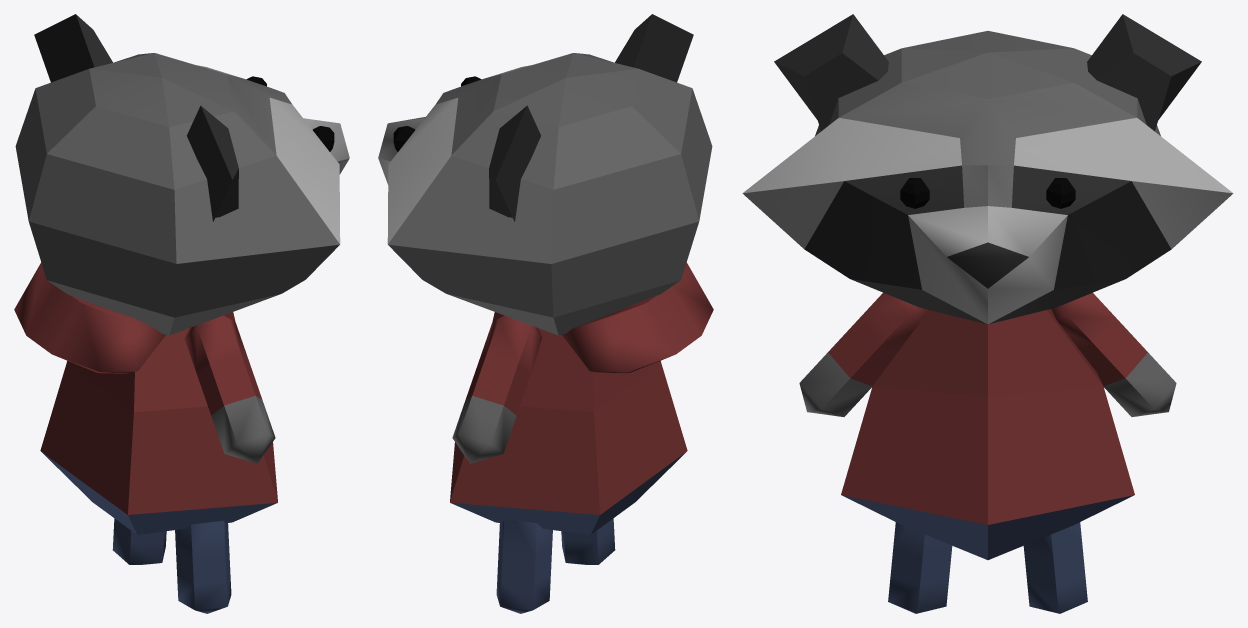
Rendered from racoon.fbx.
3 renders of one model, left to right at view 1: azimuth 30°, elevation 25°; view 2: azimuth 150°, elevation 25°; view 3: azimuth 270°, elevation 25°, orthographic. The views are drawn at different scales.
Visible parts, largest first — view 1: Head, Body, Hoodie, ArmRight, Ears, LegRight, LegLeft, Eyes; view 2: Head, Body, Hoodie, ArmLeft, Ears, LegLeft, LegRight, Eyes; view 3: Head, Body, Ears, ArmRight, ArmLeft, LegLeft, LegRight, Eyes.
Boxes of the visible parts, x1=… form: Head: x1=15, y1=53, x2=349, y2=335; Body: x1=40, y1=312, x2=277, y2=534; Hoodie: x1=14, y1=262, x2=165, y2=373; ArmRight: x1=184, y1=315, x2=275, y2=463; Ears: x1=34, y1=14, x2=238, y2=221; LegRight: x1=175, y1=520, x2=231, y2=613; LegLeft: x1=112, y1=518, x2=166, y2=564; Eyes: x1=246, y1=76, x2=334, y2=151; Head: x1=378, y1=53, x2=712, y2=335; Body: x1=450, y1=312, x2=687, y2=534; Hoodie: x1=562, y1=262, x2=713, y2=373; ArmLeft: x1=452, y1=315, x2=541, y2=463; Ears: x1=489, y1=14, x2=693, y2=221; LegLeft: x1=496, y1=520, x2=552, y2=613; LegRight: x1=561, y1=518, x2=615, y2=564; Eyes: x1=393, y1=76, x2=481, y2=151; Head: x1=742, y1=31, x2=1233, y2=324; Body: x1=841, y1=309, x2=1134, y2=559; Ears: x1=774, y1=14, x2=1201, y2=131; ArmRight: x1=799, y1=292, x2=928, y2=416; ArmLeft: x1=1051, y1=292, x2=1176, y2=416; LegLeft: x1=1023, y1=522, x2=1087, y2=613; LegRight: x1=888, y1=522, x2=952, y2=613; Eyes: x1=900, y1=178, x2=1075, y2=208.
Bounding box in the file's own units: 0.6938 × 1.12 × 0.8547.
